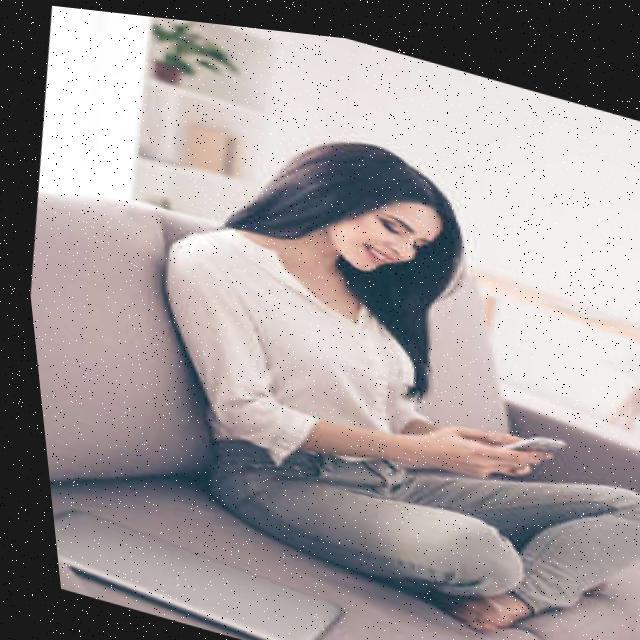smartphone-person: (44, 38, 640, 640)
